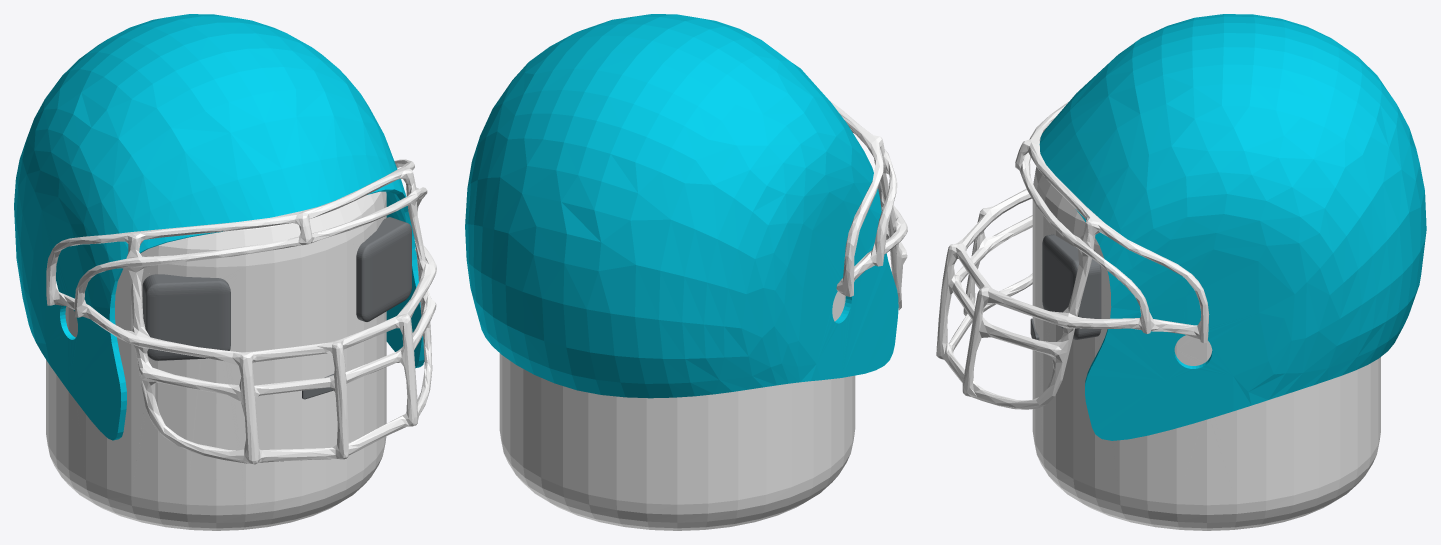
Rendered from player_blue.glb.
The picture shows the model from 3 angles, left to right: view 1: azimuth 30°, elevation 25°; view 2: azimuth 150°, elevation 25°; view 3: azimuth 270°, elevation 25°; orthographic projection. The views are drawn at different scales.
Visible parts, largest first — view 1: obj_0; view 2: obj_0; view 3: obj_0.
Part boxes in pixels (left/top/right/bottom): obj_0: left=14, top=14, right=436, bottom=530; obj_0: left=465, top=14, right=907, bottom=530; obj_0: left=936, top=14, right=1426, bottom=530.
Bounding box in the file's own units: 5.75 × 6.95 × 7.04.
